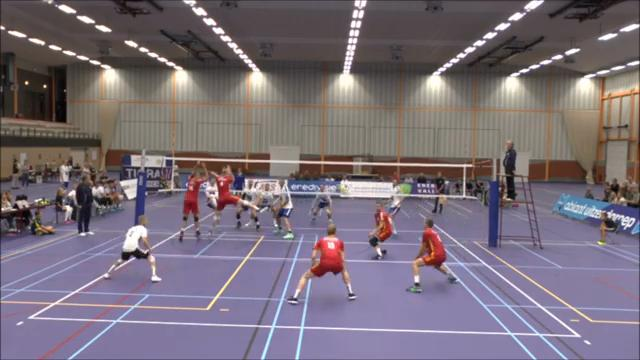muro: (209, 160, 269, 244), (176, 158, 209, 245)
